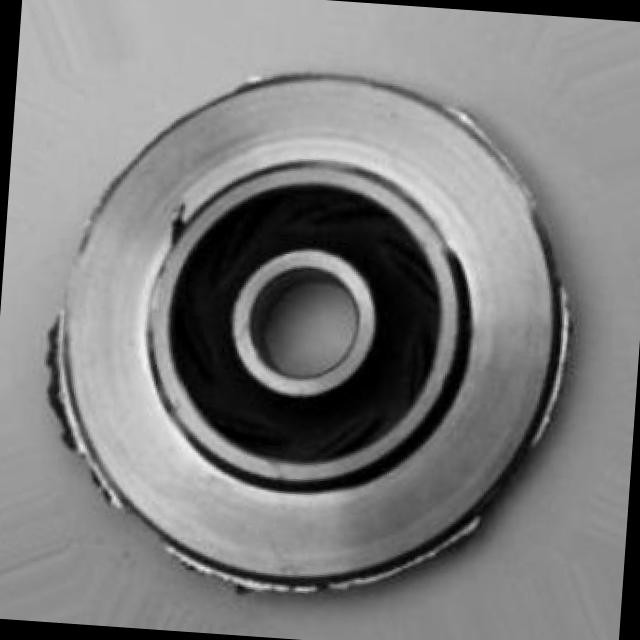Defect: (33, 322, 88, 418)
